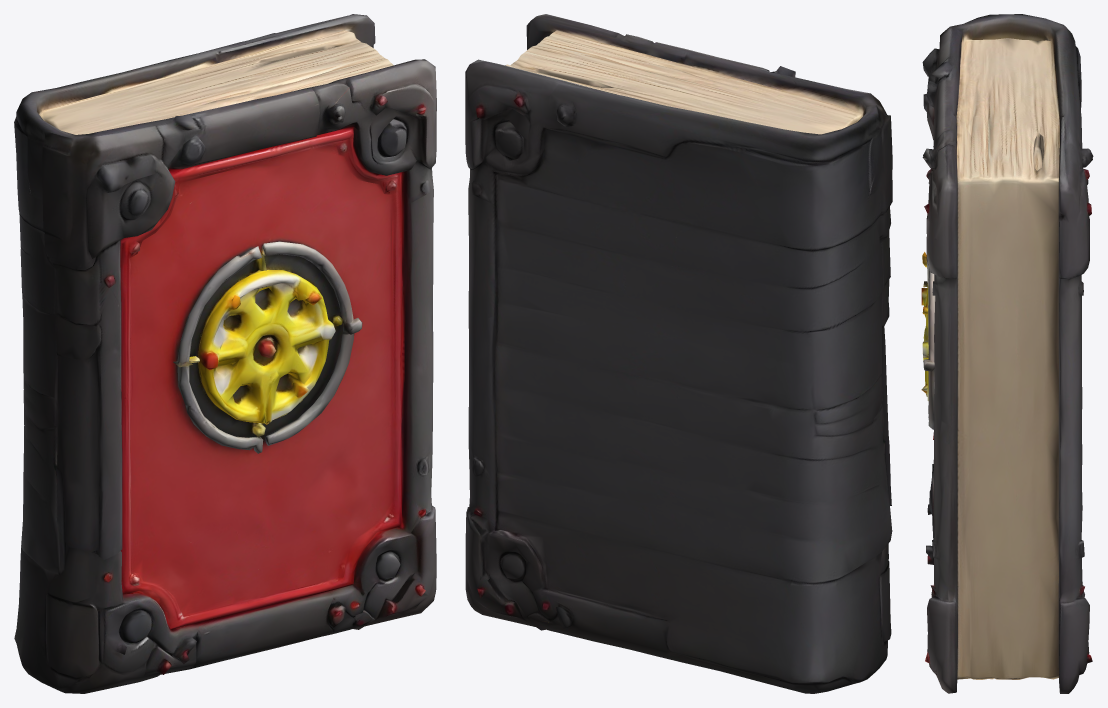
The model's file is tripo_convert_2c16bc6a-b7ba-4117-bfc8-a387cfdbe0d1.fbx.
3 renders of one model, left to right at view 1: azimuth 30°, elevation 25°; view 2: azimuth 150°, elevation 25°; view 3: azimuth 270°, elevation 25°, orthographic. The views are drawn at different scales.
Visible parts, largest first — view 1: tripo_node_2c16bc6a; view 2: tripo_node_2c16bc6a; view 3: tripo_node_2c16bc6a.
Boxes of the visible parts, box(x1,y1,x2,y2) form: tripo_node_2c16bc6a: box(14, 14, 436, 693); tripo_node_2c16bc6a: box(465, 14, 892, 693); tripo_node_2c16bc6a: box(921, 14, 1093, 693).
Bounding box in the file's own units: 0.7067 × 1 × 0.2982.
Materials: 1 (1 with a texture image).
